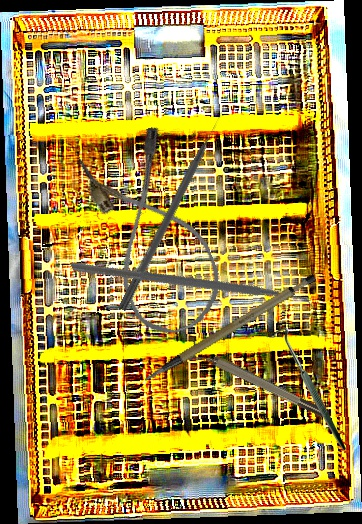Cannula: (74, 123, 234, 346)
Chopper: (70, 179, 319, 402)
Fixation Ring: (183, 338, 328, 426)
Hook Surgical: (270, 327, 346, 451)
Pusher: (117, 109, 229, 313)
Scalpel Handle: (131, 271, 327, 382)
